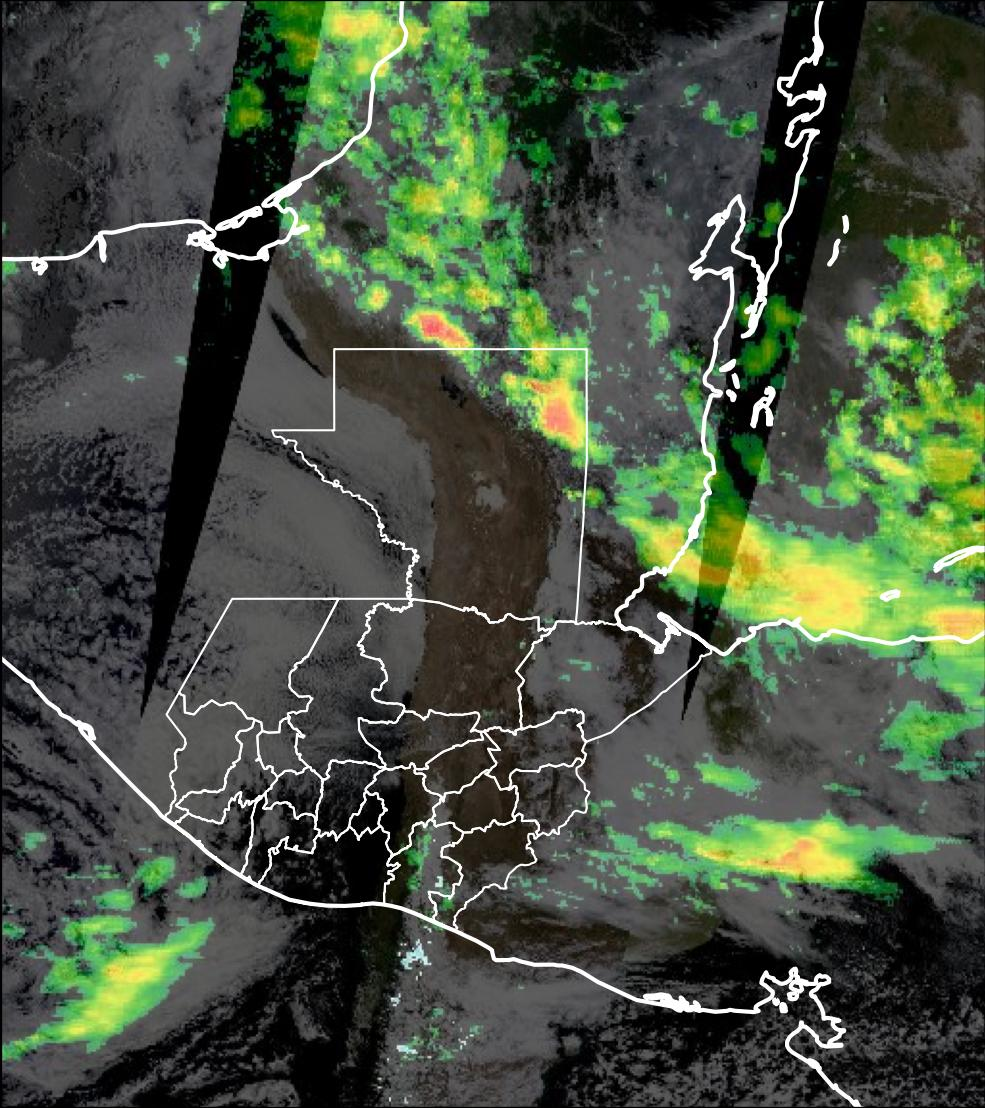precipitacion: (517, 368, 589, 455), (398, 304, 489, 352)
